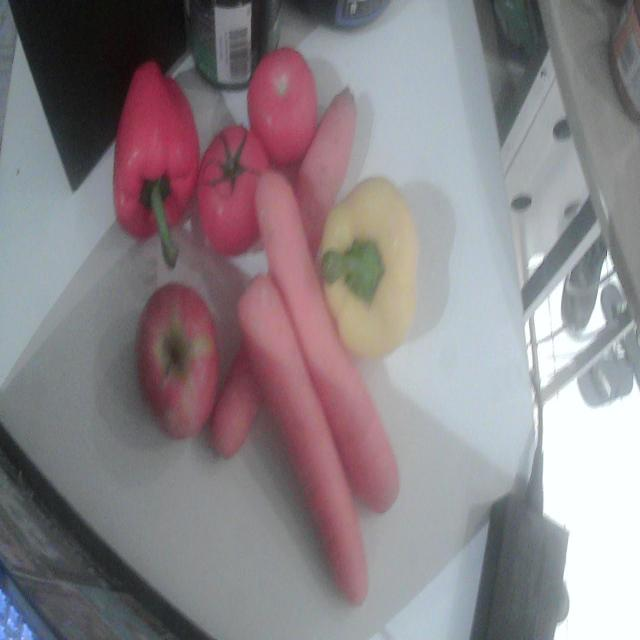Apple: (138, 284, 219, 438)
Bell Pepper: (320, 177, 419, 359), (114, 62, 200, 239)
Carrot: (256, 173, 399, 512), (238, 276, 367, 603)
Tomato: (197, 126, 269, 257), (248, 48, 317, 169)
